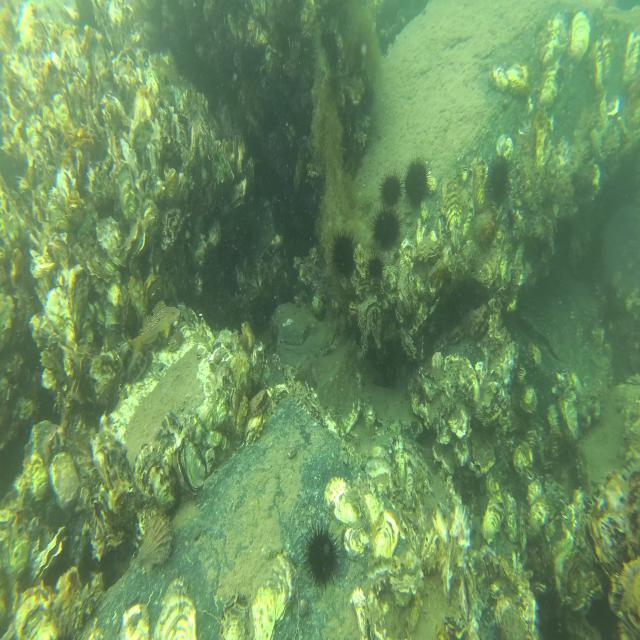echinus: (305, 515, 342, 593), (403, 152, 431, 213), (327, 226, 359, 278), (372, 203, 403, 253), (483, 157, 515, 203), (378, 168, 405, 205), (366, 250, 386, 284)
scallop: (136, 510, 174, 573), (250, 388, 271, 419)
